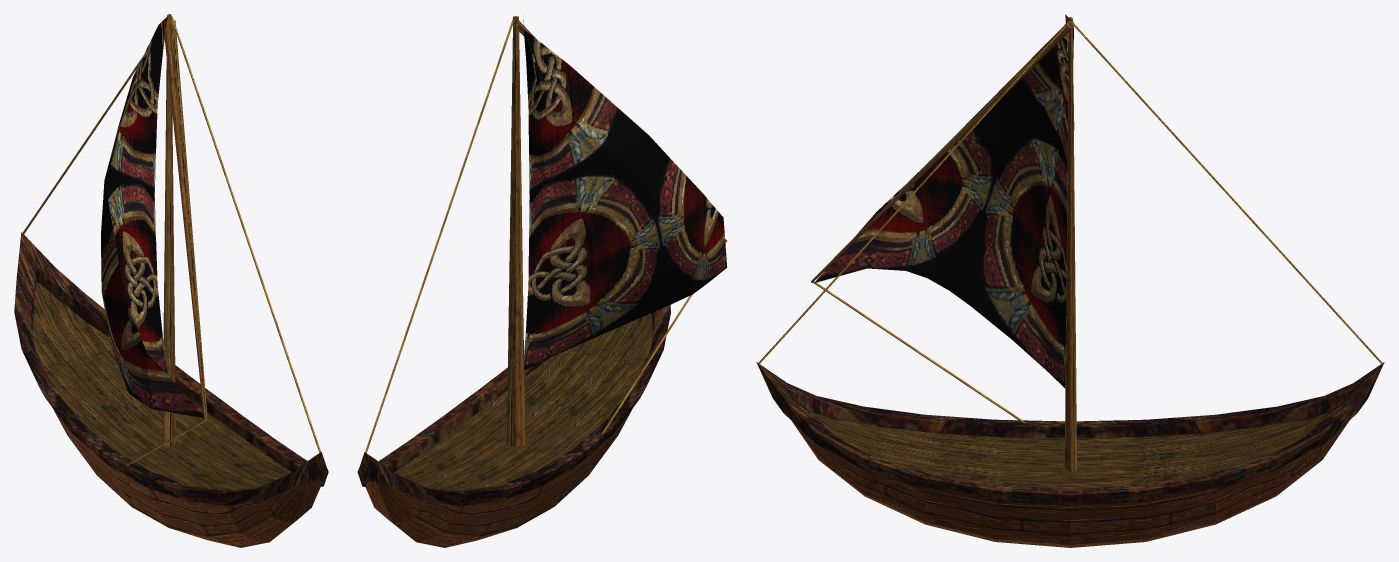
File: kardboat1.dae
3 views of the same model, side by side, from view 1: azimuth 30°, elevation 25°; view 2: azimuth 150°, elevation 25°; view 3: azimuth 270°, elevation 25° (orthographic). The views are drawn at different scales.
Visible parts, largest first — view 1: S_KardBoatSail, S_KardBoatDeck, S_KardBoatTopEdge, S_KardBoatBottom, S_KardBoatSpar, S_KardBoatMast, S_KardBoatRope1, S_KardBoatRope2; view 2: S_KardBoatSail, S_KardBoatDeck, S_KardBoatTopEdge, S_KardBoatBottom, S_KardBoatMast, S_KardBoatRope2; view 3: S_KardBoatSail, S_KardBoatTopEdge, S_KardBoatDeck, S_KardBoatBottom, S_KardBoatMast, S_KardBoatSpar, S_KardBoatRope2, S_KardBoatRope1.
Boxes of the visible parts, x1,y1,x2,y2 form: S_KardBoatSail: [101, 16, 207, 418]; S_KardBoatDeck: [32, 281, 291, 490]; S_KardBoatTopEdge: [14, 232, 328, 505]; S_KardBoatBottom: [52, 407, 320, 547]; S_KardBoatSpar: [163, 20, 207, 421]; S_KardBoatMast: [162, 14, 175, 447]; S_KardBoatRope1: [171, 16, 320, 452]; S_KardBoatRope2: [22, 15, 171, 235]; S_KardBoatSail: [523, 20, 727, 369]; S_KardBoatDeck: [395, 313, 652, 491]; S_KardBoatTopEdge: [357, 305, 670, 505]; S_KardBoatBottom: [365, 407, 633, 547]; S_KardBoatMast: [506, 16, 525, 446]; S_KardBoatRope2: [365, 19, 513, 452]; S_KardBoatSail: [814, 14, 1074, 388]; S_KardBoatTopEdge: [756, 362, 1384, 505]; S_KardBoatDeck: [809, 411, 1331, 488]; S_KardBoatBottom: [792, 421, 1348, 547]; S_KardBoatMast: [1064, 17, 1076, 471]; S_KardBoatSpar: [811, 21, 1073, 282]; S_KardBoatRope2: [1070, 20, 1382, 364]; S_KardBoatRope1: [758, 20, 1070, 364].
Size of the model in its own units: 0.4772 by 1.2 by 1.28.
9 materials, 9 textured.
